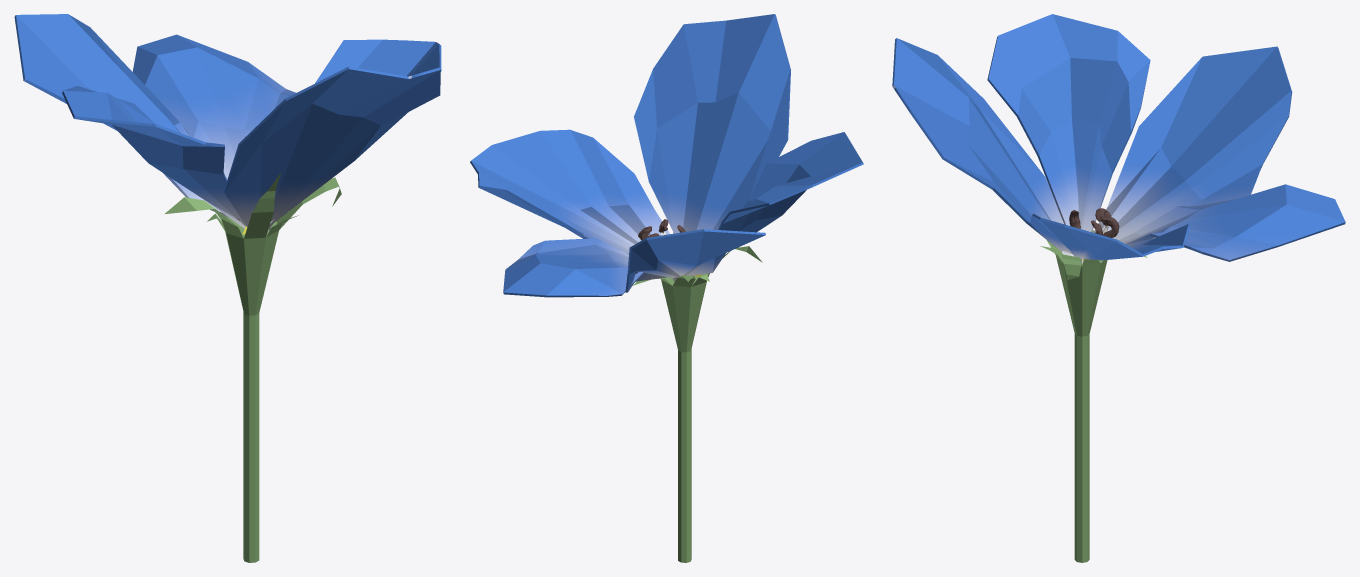
The model's file is blueFlower.fbx.
3 renders of one model, left to right at view 1: azimuth 30°, elevation 25°; view 2: azimuth 150°, elevation 25°; view 3: azimuth 270°, elevation 25°, orthographic. The views are drawn at different scales.
Visible parts, largest first — view 1: Cylinder.002, Cylinder; view 2: Cylinder.002, Cylinder; view 3: Cylinder.002, Cylinder.
Boxes of the visible parts, <box> form: Cylinder.002: <box>14,14,441,230</box>; Cylinder: <box>164,173,341,562</box>; Cylinder.002: <box>470,14,863,297</box>; Cylinder: <box>632,246,762,562</box>; Cylinder.002: <box>892,14,1345,263</box>; Cylinder: <box>1040,230,1147,562</box>.
Bounding box in the file's own units: 175 × 230 × 182.
Materials: 4 (1 with a texture image).
